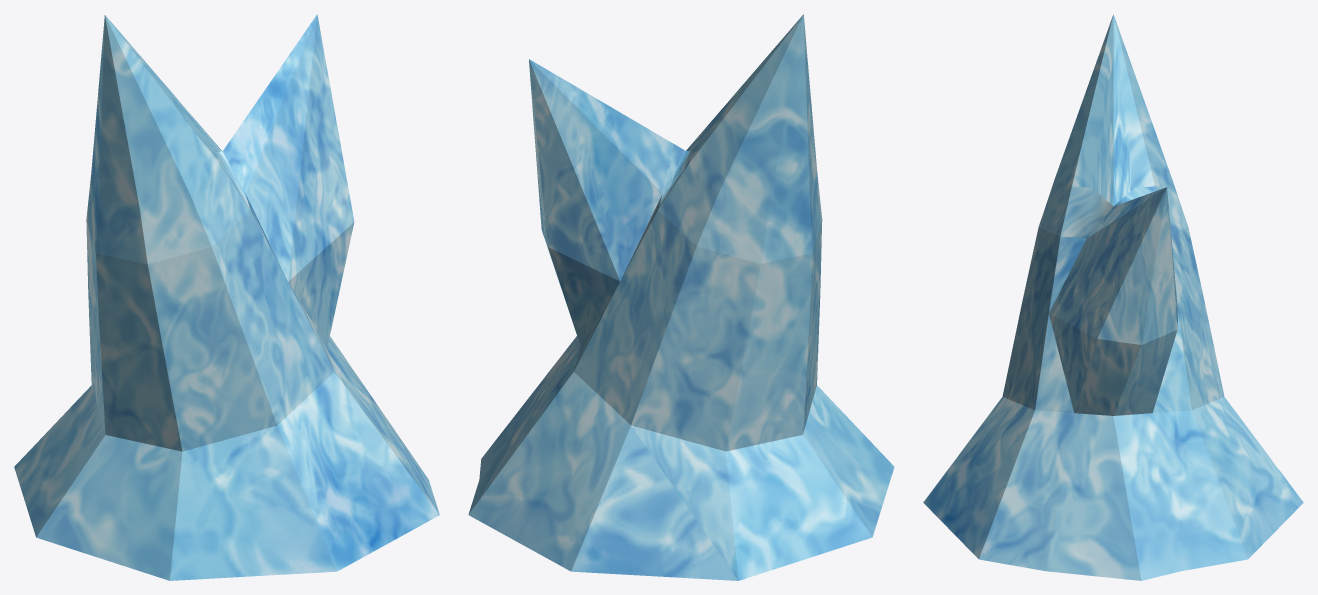
Rendered from IceBlock.fbx.
3 views of the same model, side by side, from view 1: azimuth 30°, elevation 25°; view 2: azimuth 150°, elevation 25°; view 3: azimuth 270°, elevation 25° (orthographic). The views are drawn at different scales.
Visible parts, largest first — view 1: pSphere3; view 2: pSphere3; view 3: pSphere3.
Boxes of the visible parts, bbox=[...] form: pSphere3: bbox=[14, 14, 439, 580]; pSphere3: bbox=[468, 14, 894, 580]; pSphere3: bbox=[923, 14, 1303, 580].
Bounding box in the file's own units: 6.48 × 8.38 × 6.6.
1 material, 1 textured.
